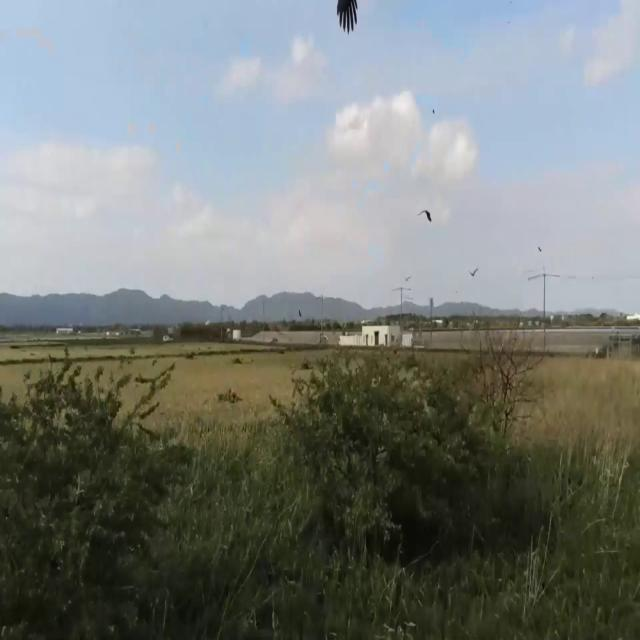bird: (334, 0, 358, 50), (418, 200, 432, 232), (468, 260, 479, 284)
